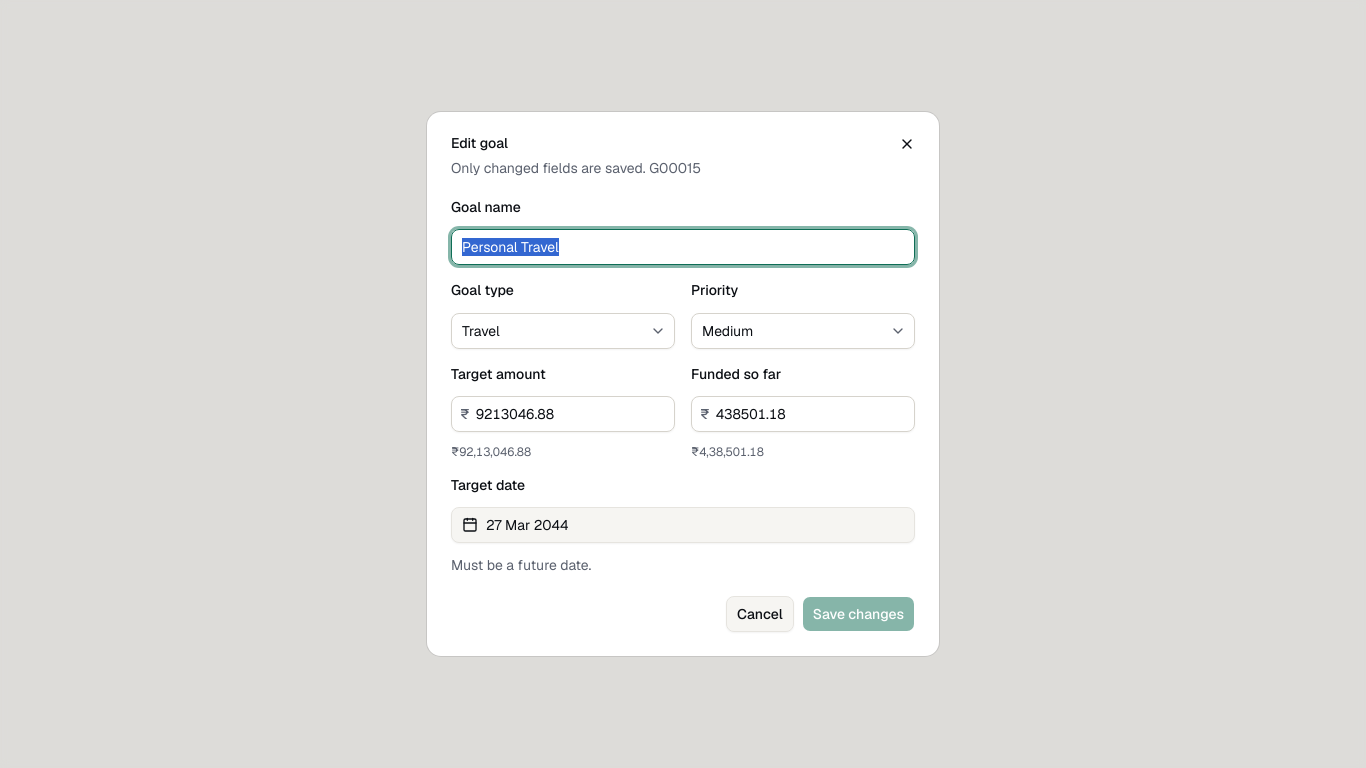
it: GoalFormDialog (edit) › PATCHes only the changed field and maps a server 422 onto that input
Replace the text in the field labelled "Funded so far" with "500000" at (812, 414), box [710,396,914,432]
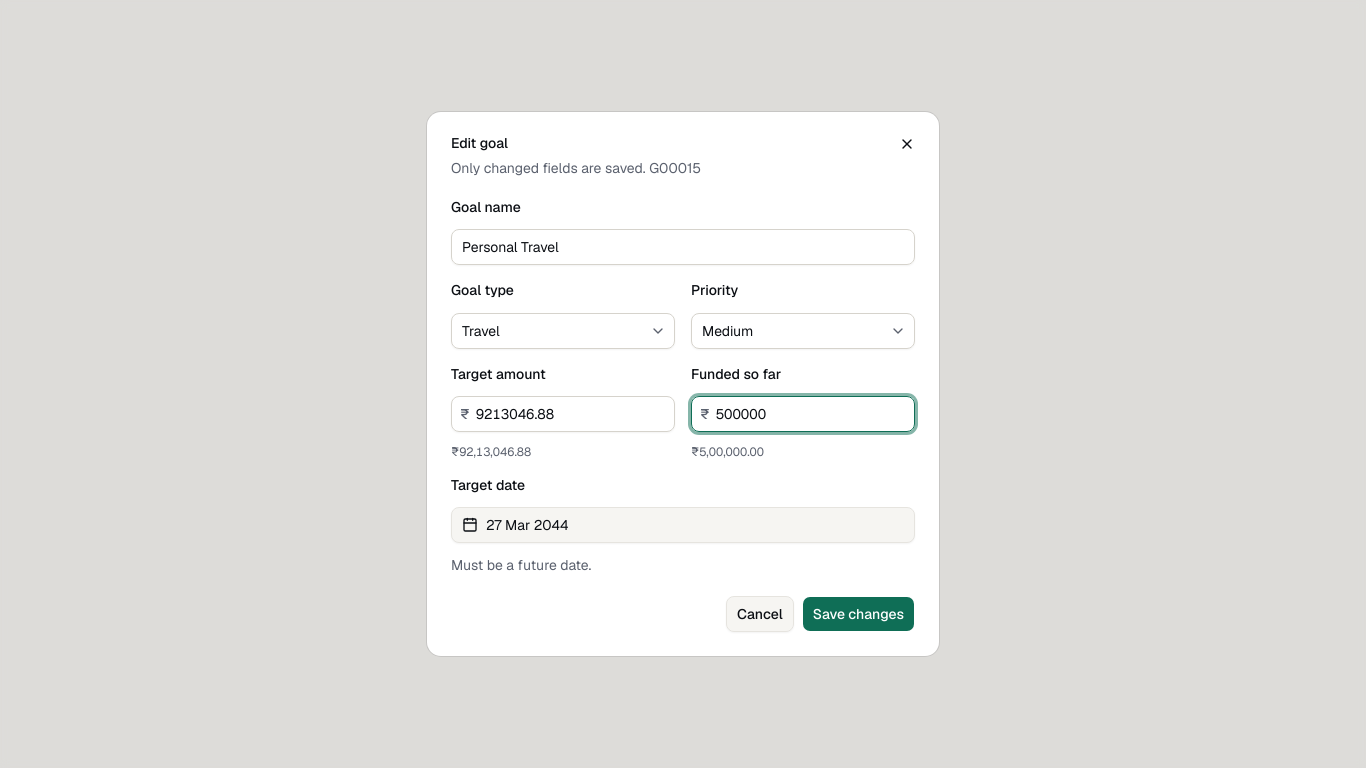
Click the button "Save changes" at (858, 614), box [802,596,915,632]
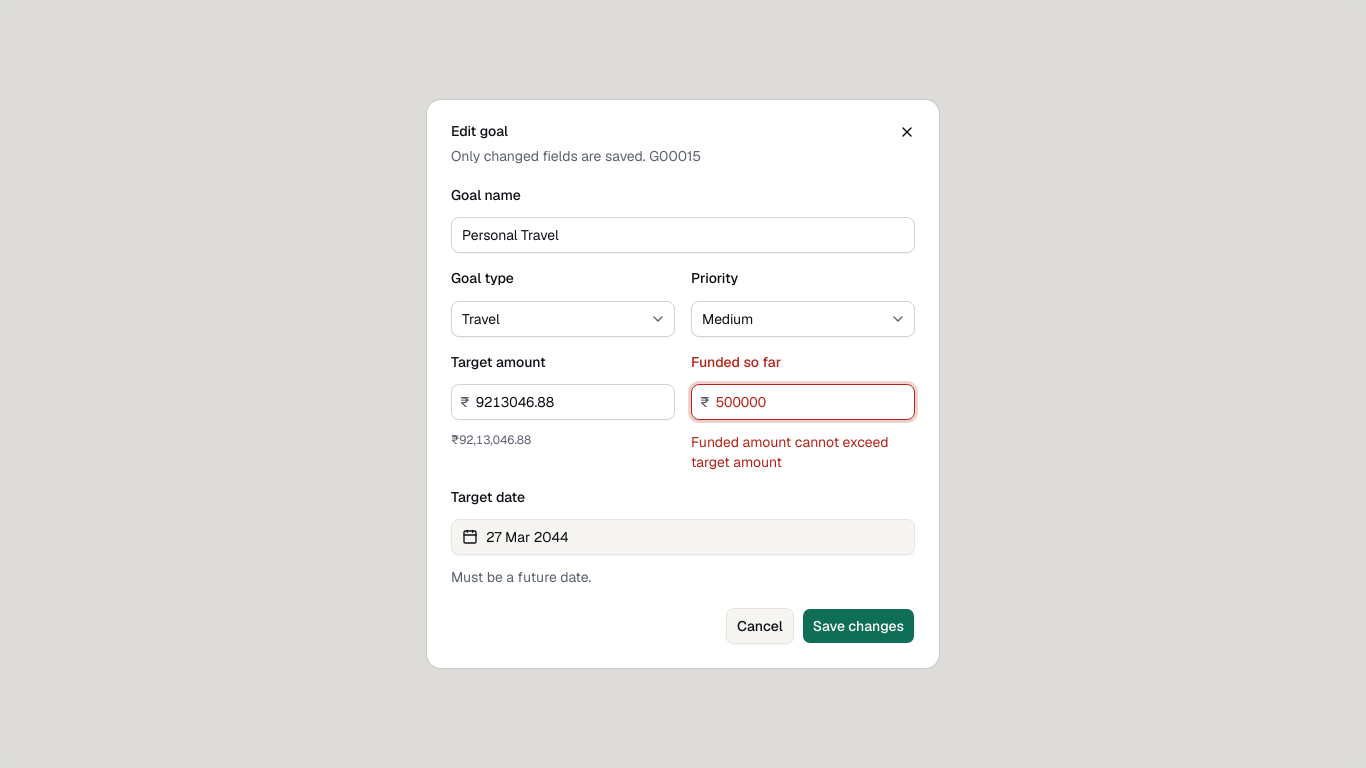
Expected: the text "Funded amount cannot exceed target amount" is shown, [691,432,915,472]
